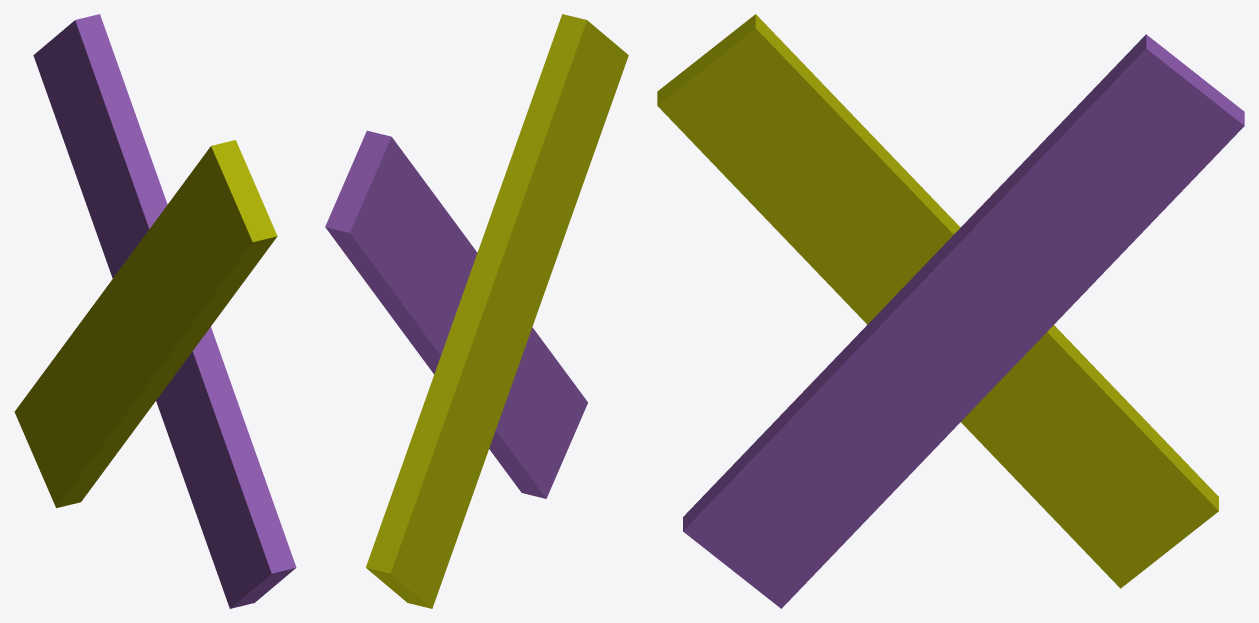
3 views of the same model, side by side, from view 1: azimuth 30°, elevation 25°; view 2: azimuth 150°, elevation 25°; view 3: azimuth 270°, elevation 25° (orthographic). The views are drawn at different scales.
Parts seen in each view (by area): view 1: pCube1, pasted__pCube1; view 2: pCube1, pasted__pCube1; view 3: pasted__pCube1, pCube1.
Part boxes in pixels (<box>): pCube1: <box>14,140,277,507</box>; pasted__pCube1: <box>33,14,296,608</box>; pCube1: <box>366,14,628,608</box>; pasted__pCube1: <box>325,130,587,498</box>; pasted__pCube1: <box>683,34,1244,608</box>; pCube1: <box>657,14,1218,588</box>.
Size of what is drawn, in the model's own units: 0.00269 by 0.0225 by 0.0213.
